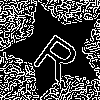R: (30, 25, 88, 83)
